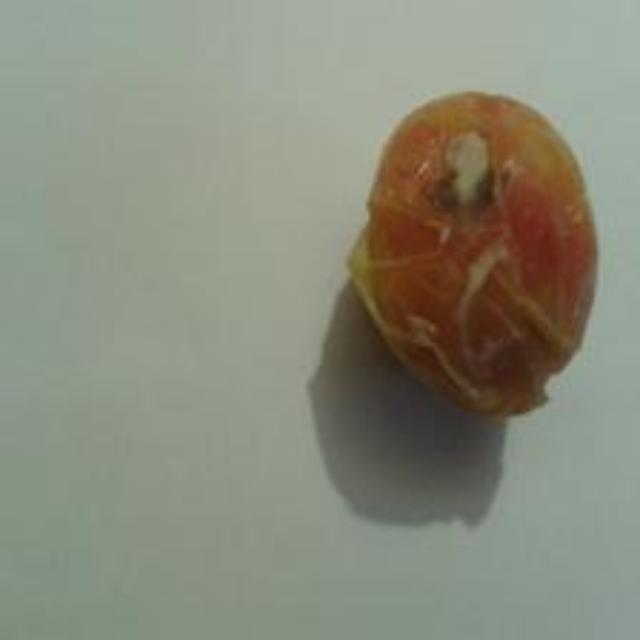defect: (339, 79, 602, 421)
